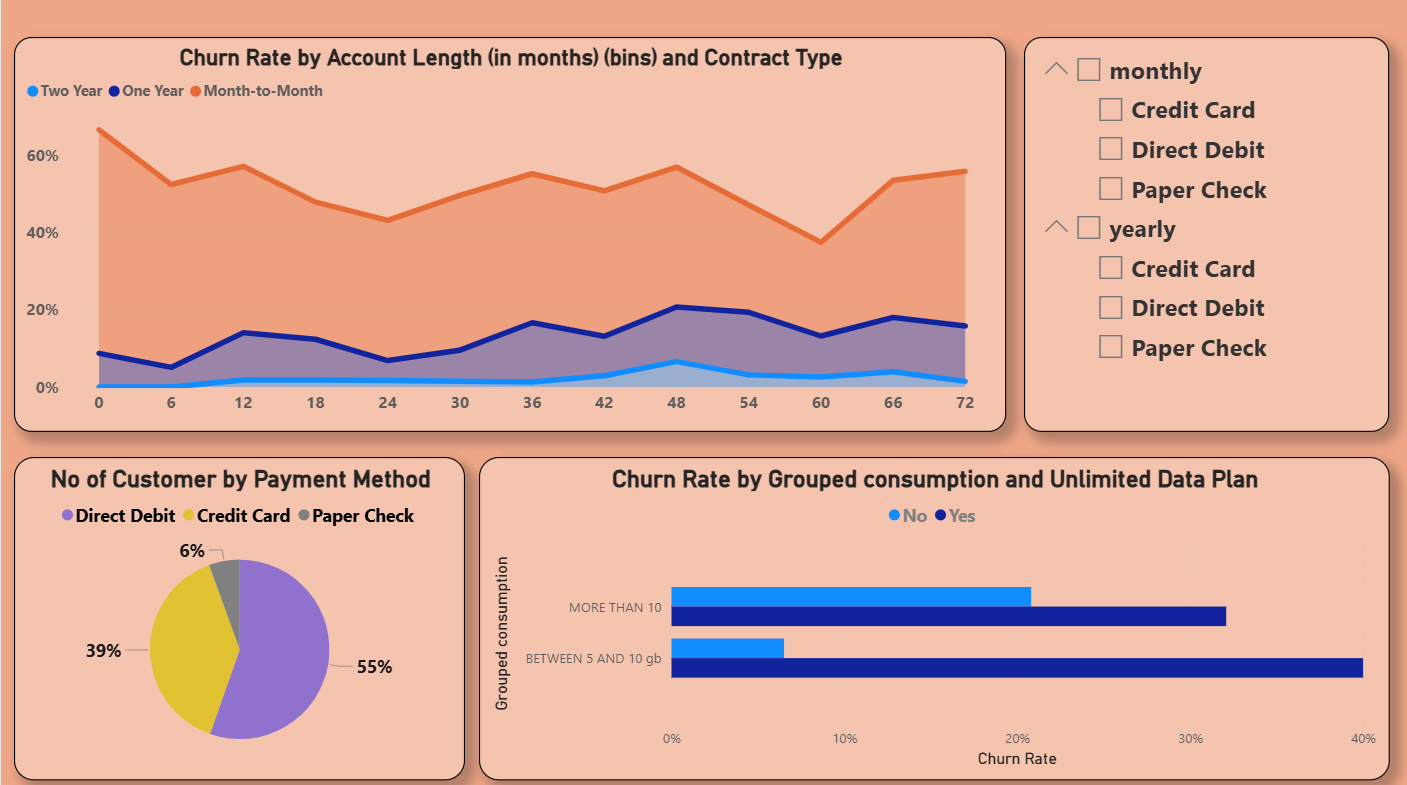

The page's visual inventory and layout, read from the dashboard file:
{"tool":"powerbi","page":{"name":"Contract  Plan","canvas":[1280,720],"ordinal":2},"visuals":[{"type":"pieChart","title":"No of Customer by Payment Method","fields":{"Y":["Databel - Data.Total Customer"],"Category":["Databel - Data.Payment Method"]},"box":[11.7,417.3,410.5,293.7],"z":0},{"type":"clusteredBarChart","fields":{"Category":["Databel - Data.Grouped consumption"],"Series":["Databel - Data.Unlimited Data Plan"],"Y":["Databel - Data.Churn Rate"]},"box":[434.8,417.3,827.7,293.7],"z":1000},{"type":"stackedAreaChart","fields":{"Y":["Databel - Data.Churn Rate"],"Category":["Databel - Data.Account Length (in months) (bins)"],"Series":["Databel - Data.Contract Type"]},"box":[11.6,35.9,902.1,358.5],"z":2000},{"type":"slicer","fields":{"Values":["Databel - Data.Contract Category","Databel - Data.Payment Method"]},"box":[930.2,35.9,332.4,359.5],"z":3000}]}

Visuals, with their boxes in screenshot pixels (x1, y1, x2, y2), scaled from the page's 1280x720 canvas onto the 1407x785 screenshot:
"No of Customer by Payment Method" pieChart: (left=13, top=455, right=464, bottom=775)
clusteredBarChart - Databel - Data.Grouped consumption x Databel - Data.Unlimited Data Plan: (left=478, top=455, right=1388, bottom=775)
stackedAreaChart - Databel - Data.Churn Rate x Databel - Data.Account Length (in months) (bins): (left=13, top=39, right=1004, bottom=430)
slicer - Databel - Data.Contract Category x Databel - Data.Payment Method: (left=1022, top=39, right=1388, bottom=431)
